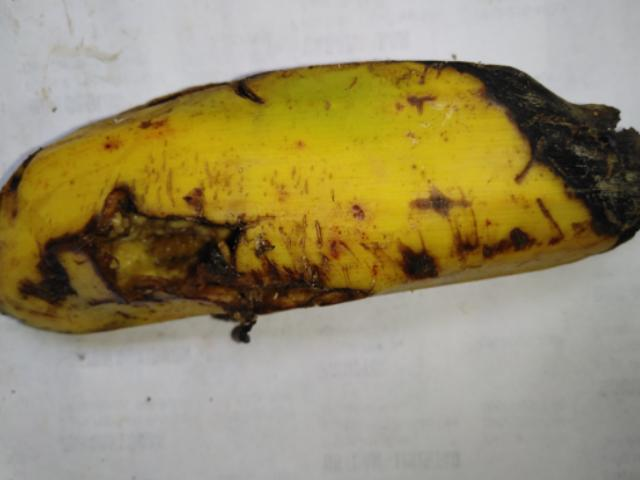ripe: (0, 58, 449, 335)
rotten: (0, 172, 356, 392), (424, 37, 639, 269)
